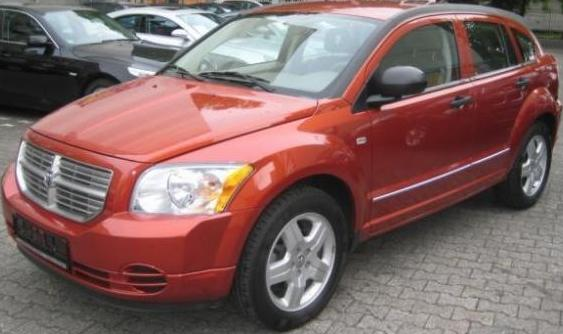front_view: (12, 134, 281, 282)
headlight: (130, 154, 259, 224)
side_glass: (382, 13, 513, 94)
